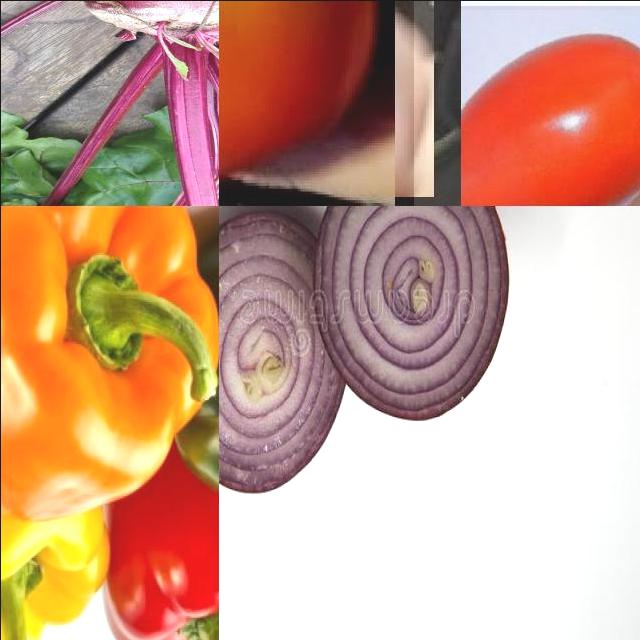beet: (79, 1, 219, 35)
bell_pepper: (1, 206, 219, 525), (1, 392, 101, 640), (104, 460, 219, 640)
onion: (314, 206, 510, 424), (219, 206, 350, 498)
tomato: (219, 1, 414, 206), (461, 6, 640, 206)
